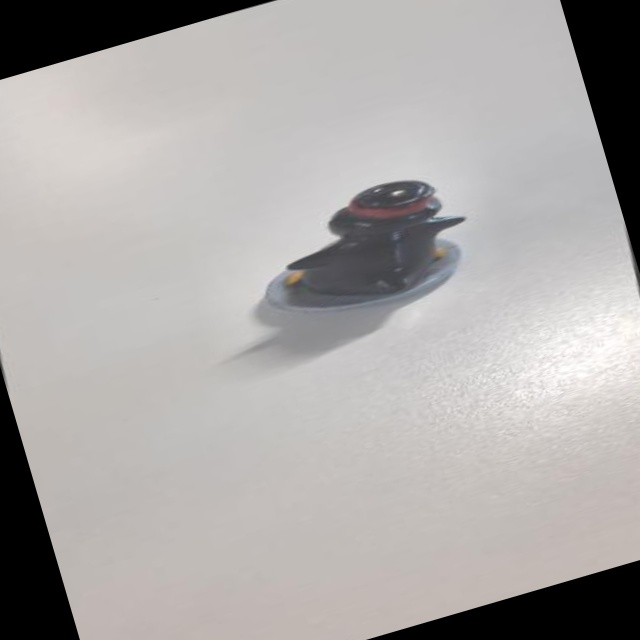Penguin: (235, 157, 488, 344)
